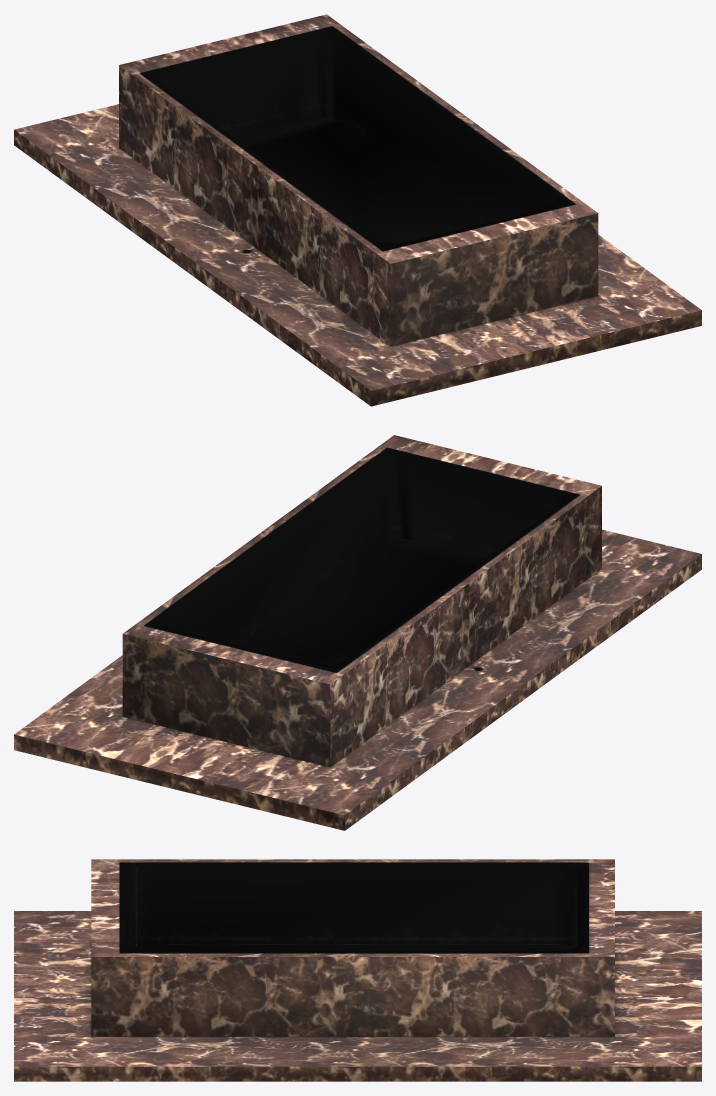
Rendered from Supreme_Brown.glb.
3 views of the same model, one above another, from view 1: azimuth 30°, elevation 25°; view 2: azimuth 150°, elevation 25°; view 3: azimuth 270°, elevation 25° (orthographic). The views are drawn at different scales.
Visible parts, largest first — view 1: Supreme_Brown; view 2: Supreme_Brown; view 3: Supreme_Brown.
Boxes of the visible parts, box(x1,y1,x2,y2) form: Supreme_Brown: box(14, 14, 701, 406); Supreme_Brown: box(14, 435, 701, 830); Supreme_Brown: box(14, 859, 701, 1081).
Size of the model in its own units: 1.57 by 0.5265 by 2.94.
1 material, 1 textured.
